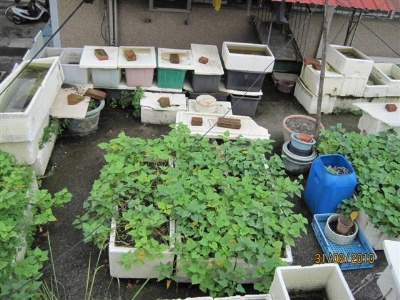bowl: (325, 214, 359, 245), (282, 146, 317, 174), (291, 131, 316, 150), (194, 94, 217, 113), (336, 216, 353, 235)
bucket: (304, 154, 357, 217)
plate: (175, 110, 271, 140), (352, 101, 400, 127), (190, 43, 226, 77), (118, 45, 157, 70), (157, 46, 194, 70)
styrofoam: (1, 56, 64, 143), (107, 202, 176, 277), (269, 264, 359, 298), (220, 40, 276, 73), (326, 43, 374, 78), (140, 91, 187, 125), (294, 81, 335, 115), (302, 62, 342, 95), (58, 47, 90, 84), (372, 62, 400, 85)
